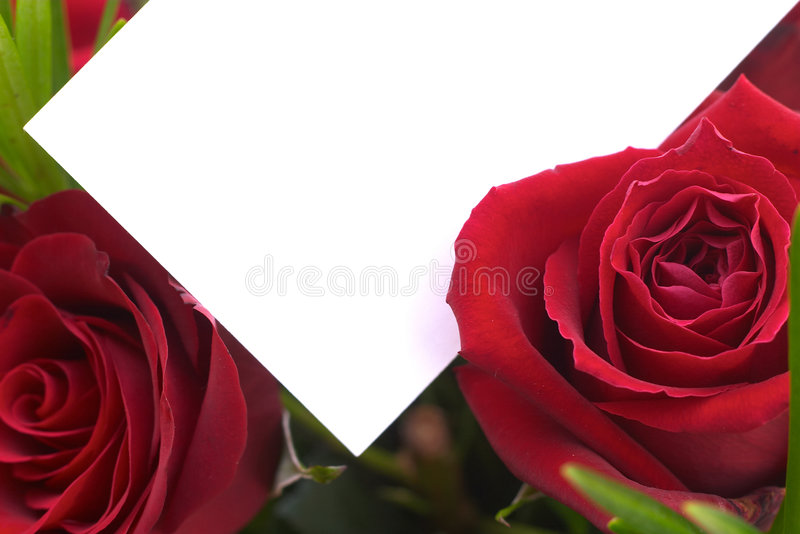RedRose: (431, 113, 800, 527), (1, 188, 309, 534)
